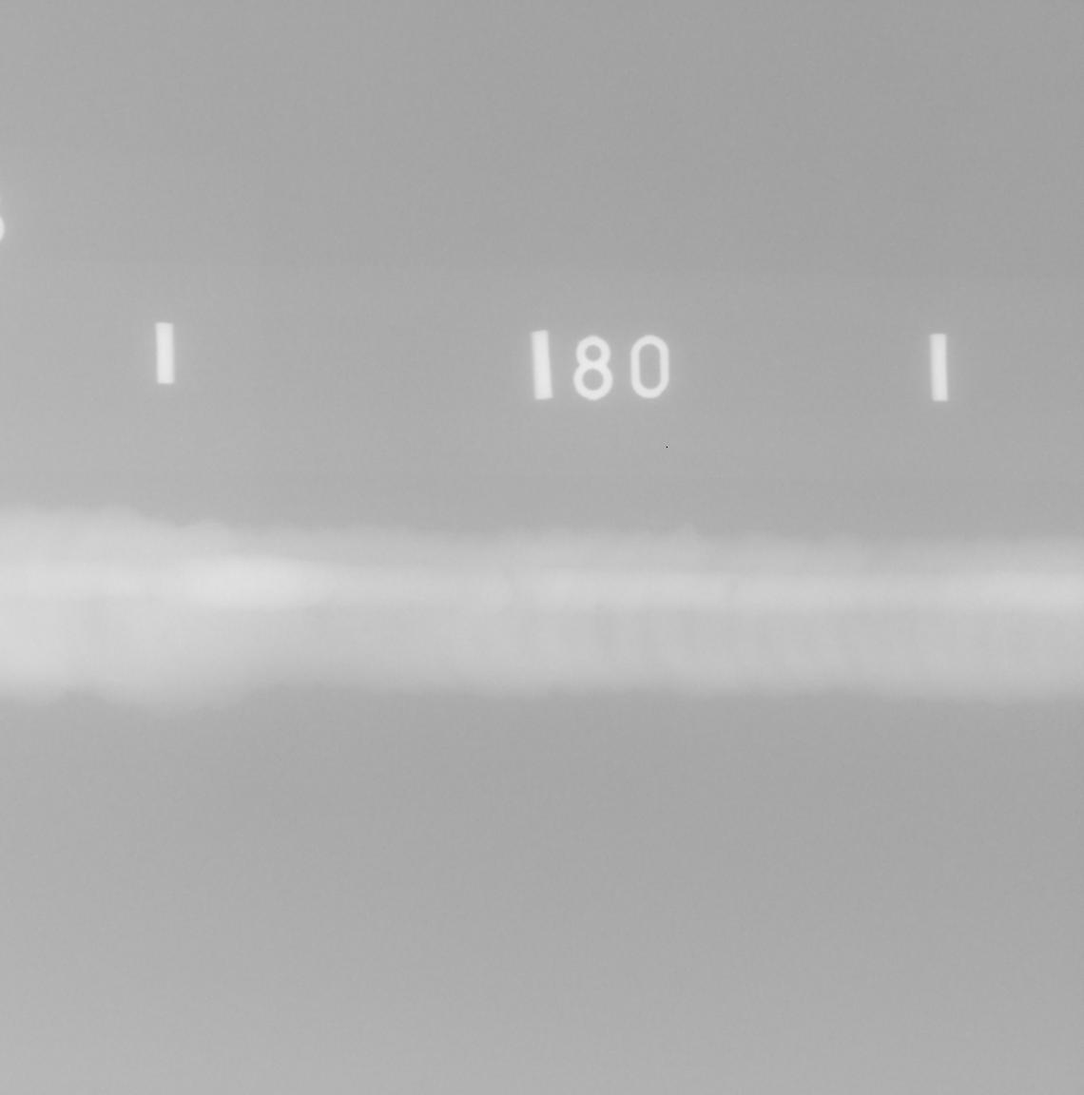Pore/Porosity: (595, 604, 602, 611), (161, 634, 166, 640), (155, 639, 160, 641)
